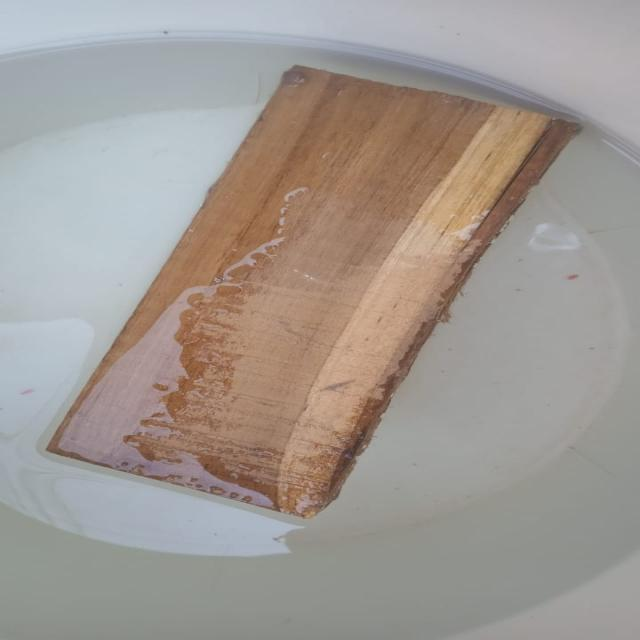wood: (51, 64, 611, 513)
